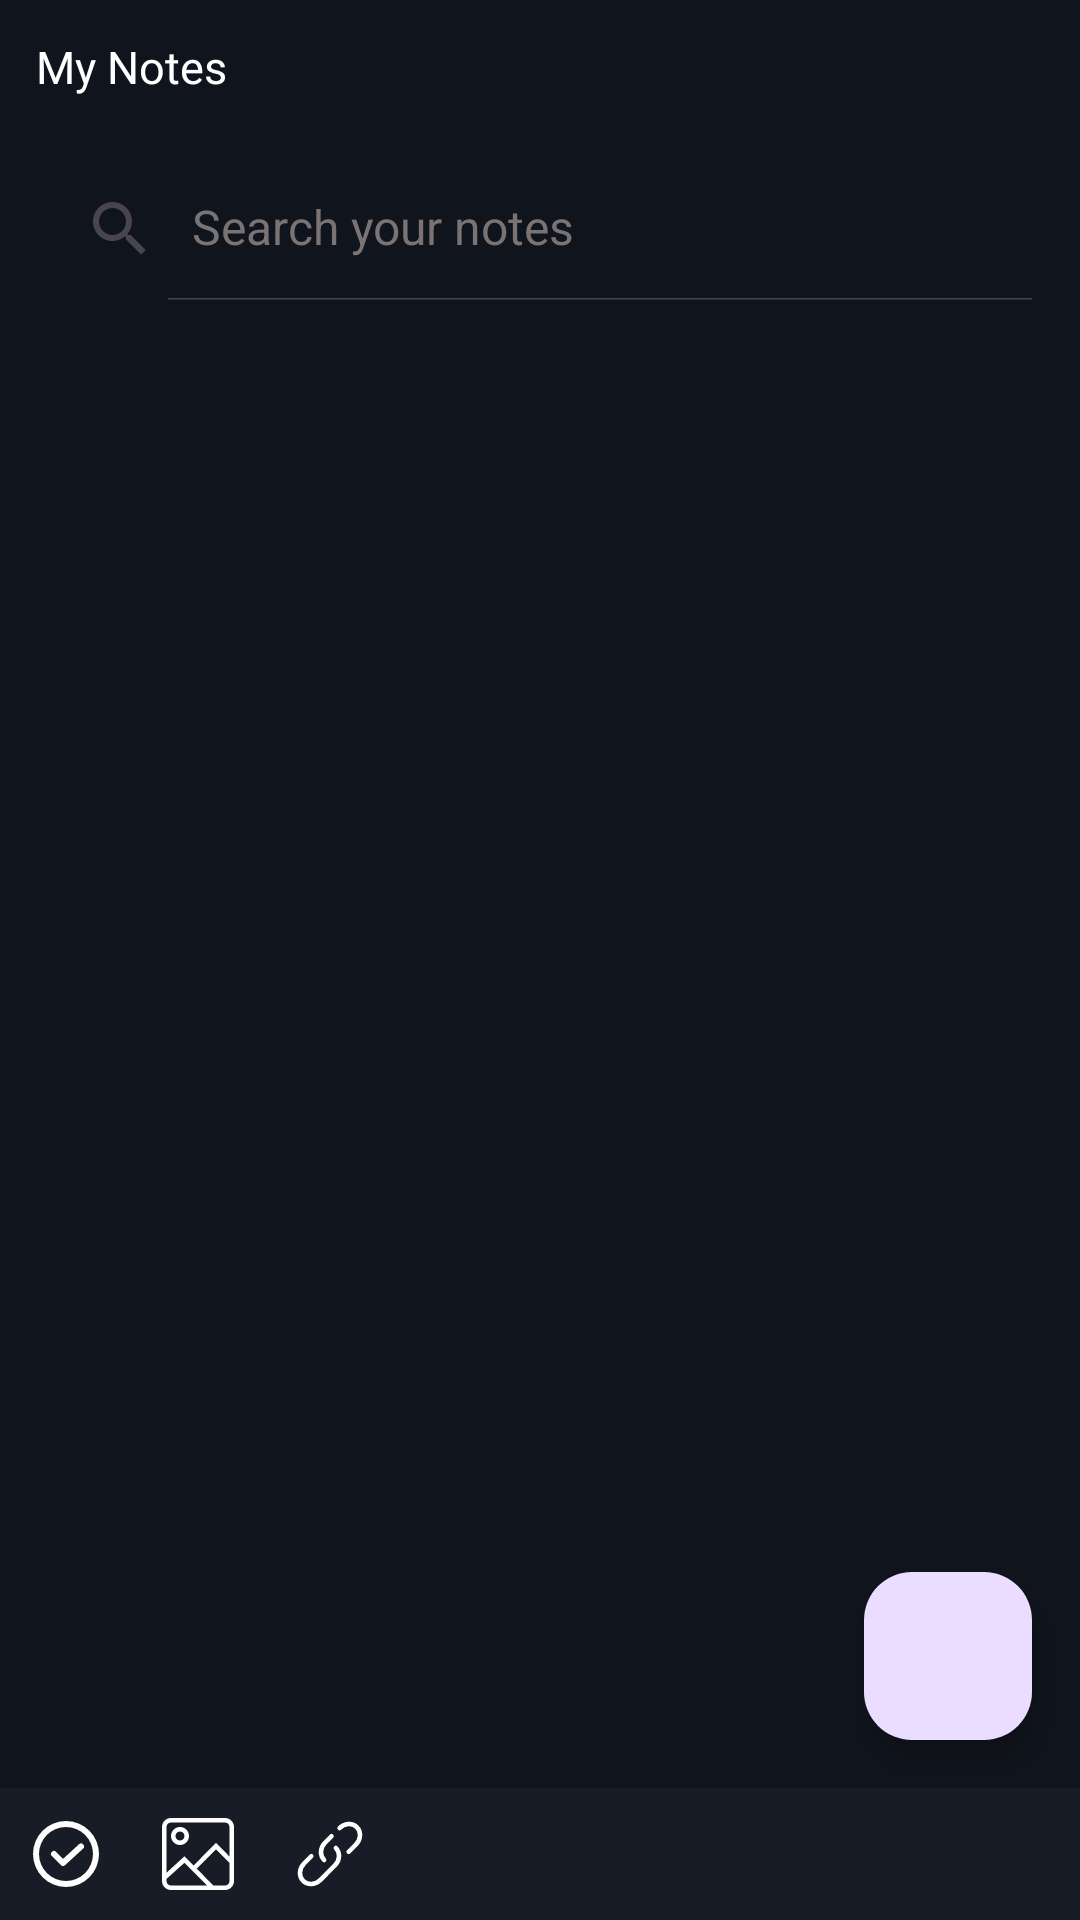

Screen size 1080 x 1920. Icon name, then its center in pixels as [x,y]:
Link Icon: [330,1854]
Tick Icon: [66,1854]
